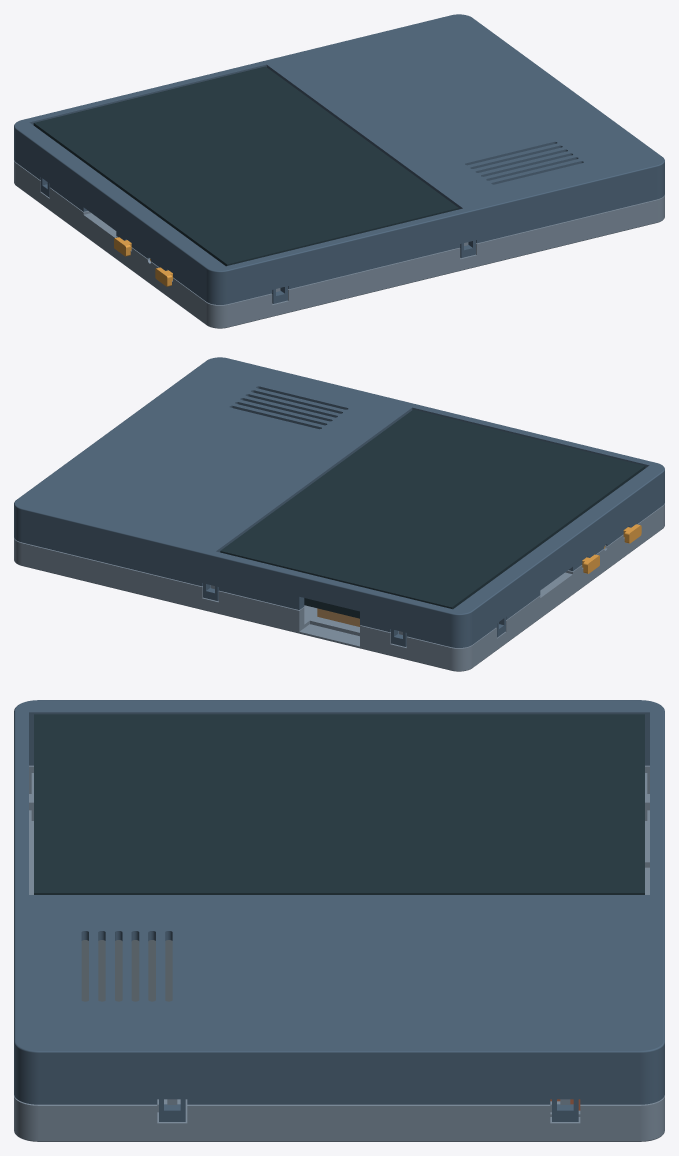
Rendered from assembly_light.glb.
The picture shows the model from 3 angles, top to bottom: view 1: azimuth 30°, elevation 25°; view 2: azimuth 150°, elevation 25°; view 3: azimuth 270°, elevation 25°; orthographic projection. The views are drawn at different scales.
Visible parts, largest first — view 1: FRONT_T0_FLUSH, DISPLAY_ENVELOPE_NOT_DETAIL, REAR_T0_1_2mm; view 2: FRONT_T0_FLUSH, DISPLAY_ENVELOPE_NOT_DETAIL, REAR_T0_1_2mm; view 3: FRONT_T0_FLUSH, DISPLAY_ENVELOPE_NOT_DETAIL, REAR_T0_1_2mm, SPEAKER_UNVERIFIED.
Boxes of the visible parts, left/top/right/bottom form: FRONT_T0_FLUSH: left=14, top=14, right=664, bottom=304; DISPLAY_ENVELOPE_NOT_DETAIL: left=33, top=66, right=458, bottom=266; REAR_T0_1_2mm: left=14, top=160, right=664, bottom=328; FRONT_T0_FLUSH: left=14, top=357, right=664, bottom=647; DISPLAY_ENVELOPE_NOT_DETAIL: left=220, top=409, right=645, bottom=618; REAR_T0_1_2mm: left=14, top=503, right=664, bottom=671; FRONT_T0_FLUSH: left=14, top=700, right=664, bottom=1121; DISPLAY_ENVELOPE_NOT_DETAIL: left=34, top=714, right=644, bottom=894; REAR_T0_1_2mm: left=14, top=765, right=664, bottom=1141; SPEAKER_UNVERIFIED: left=81, top=940, right=172, bottom=1001.
Bounding box in the file's own units: 0.1015 × 0.012 × 0.0779.
